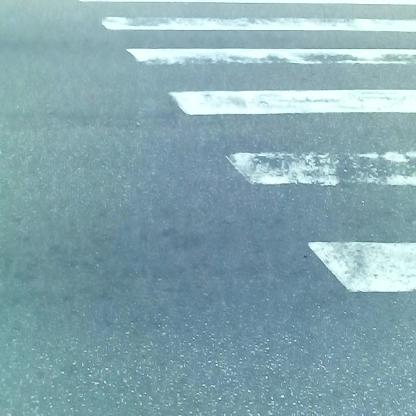crosswalk: (91, 6, 413, 309)
